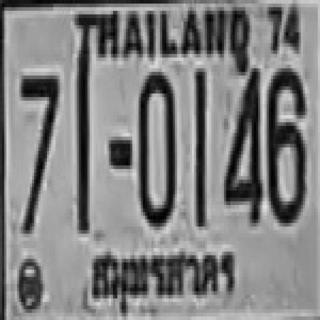N00: (137, 69, 176, 224)
N01: (193, 68, 206, 227)
N04: (224, 66, 262, 225)
N06: (266, 67, 305, 222)
N07: (19, 72, 58, 230)
P58: (86, 245, 243, 308)
